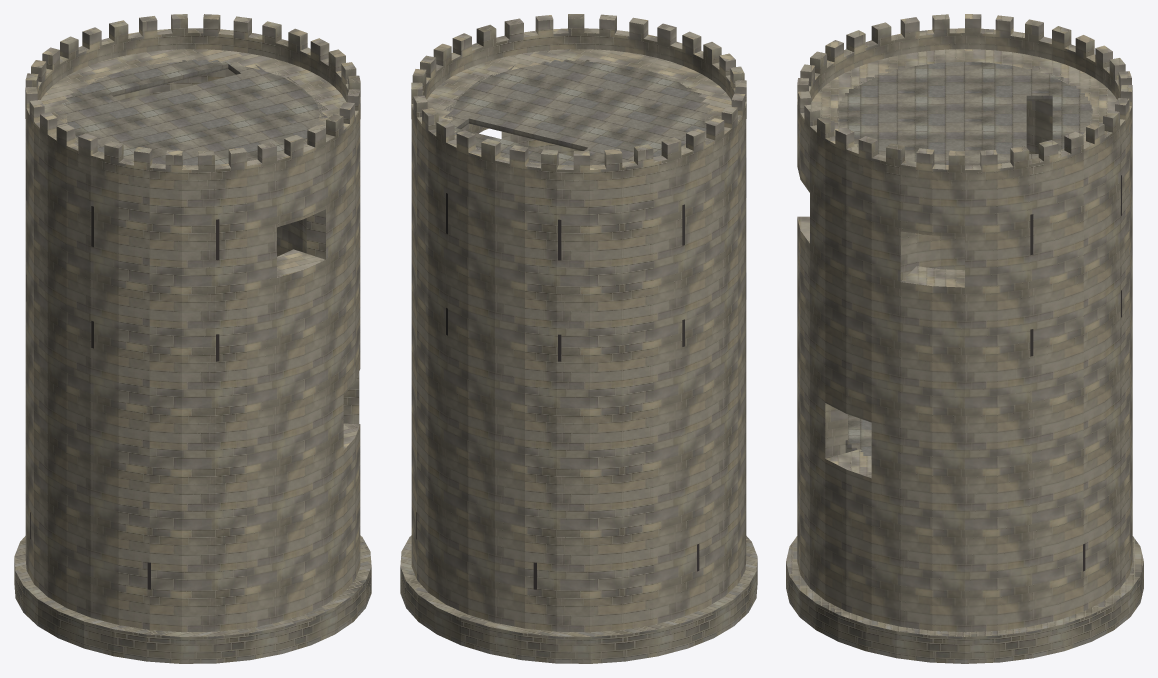
Rendered from fort-tower-round.fort-v1.lod1.glb.
The picture shows the model from 3 angles, left to right: view 1: azimuth 30°, elevation 25°; view 2: azimuth 150°, elevation 25°; view 3: azimuth 270°, elevation 25°; orthographic projection.
Parts seen in each view (by area): view 1: fort-tower-round; view 2: fort-tower-round; view 3: fort-tower-round.
Boxes of the visible parts, x1=… form: fort-tower-round: x1=14, y1=14, x2=371, y2=663; fort-tower-round: x1=400, y1=14, x2=757, y2=663; fort-tower-round: x1=786, y1=14, x2=1143, y2=663.
Bounding box in the file's own units: 19.2 × 29.8 × 19.2.
4 materials, 3 textured.
